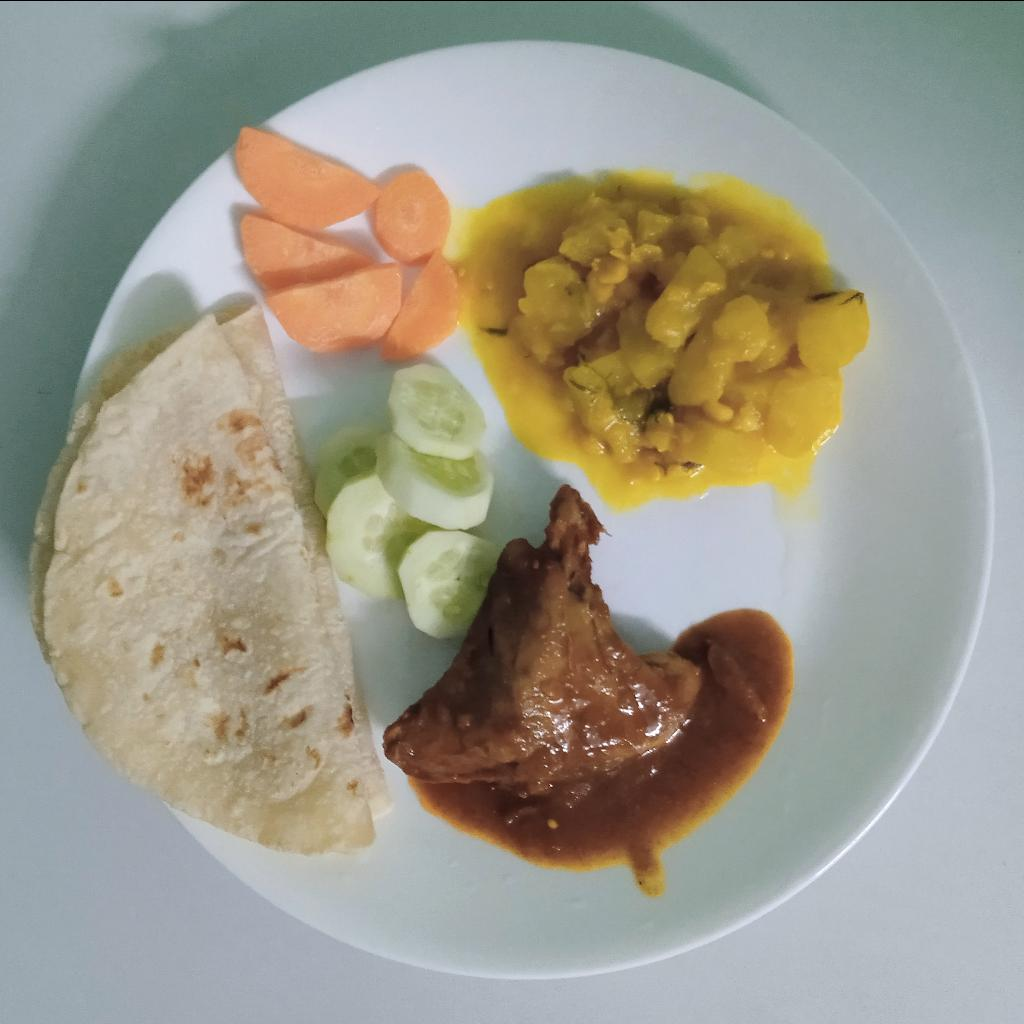carrot: (231, 125, 461, 361)
chicken: (380, 482, 703, 786)
cucumber: (314, 360, 497, 638)
lau: (511, 192, 873, 476)
ruti: (27, 297, 394, 851)
